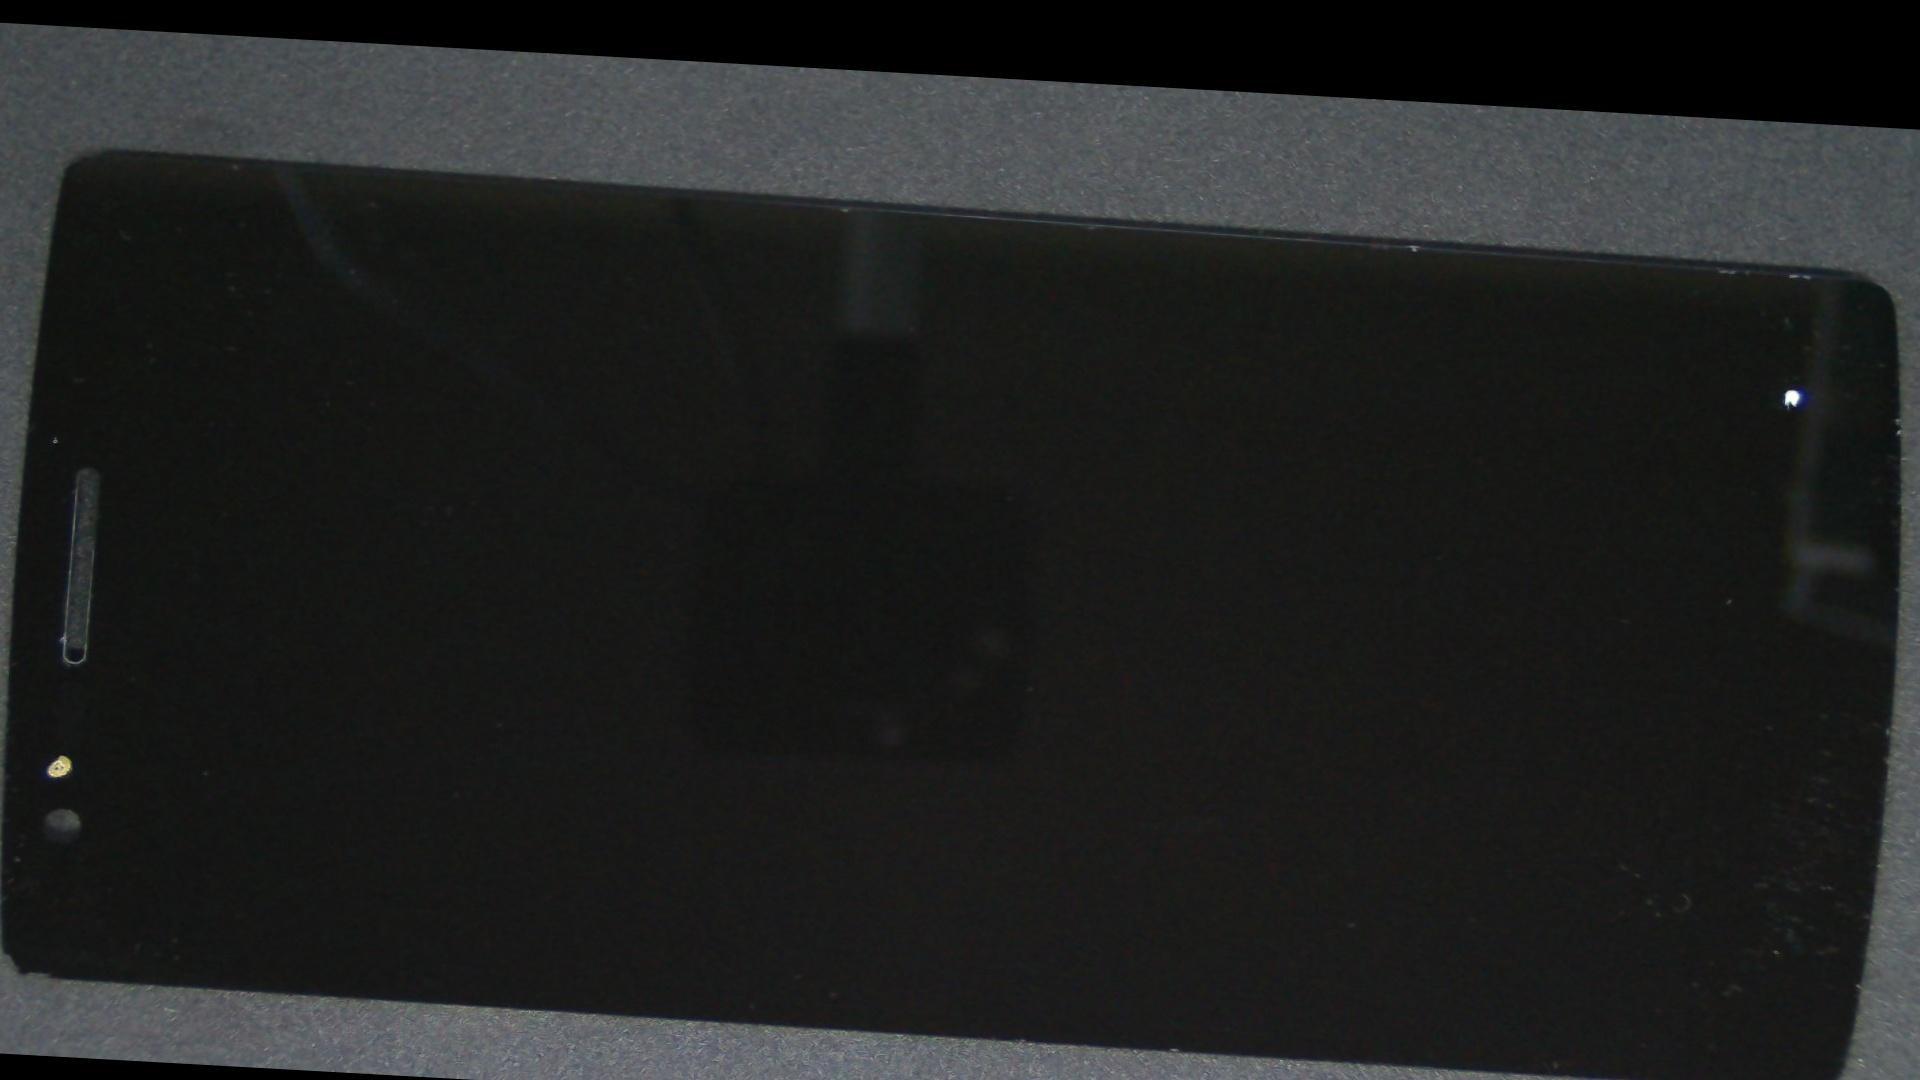oil: (853, 203, 1920, 534), (0, 386, 160, 1060)
